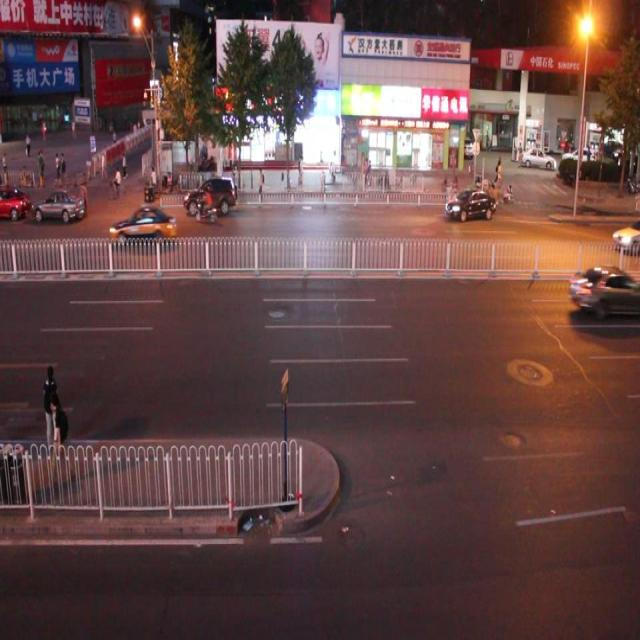car: (568, 263, 640, 318), (108, 204, 176, 250), (182, 173, 236, 215), (30, 187, 86, 224), (444, 186, 495, 223)
